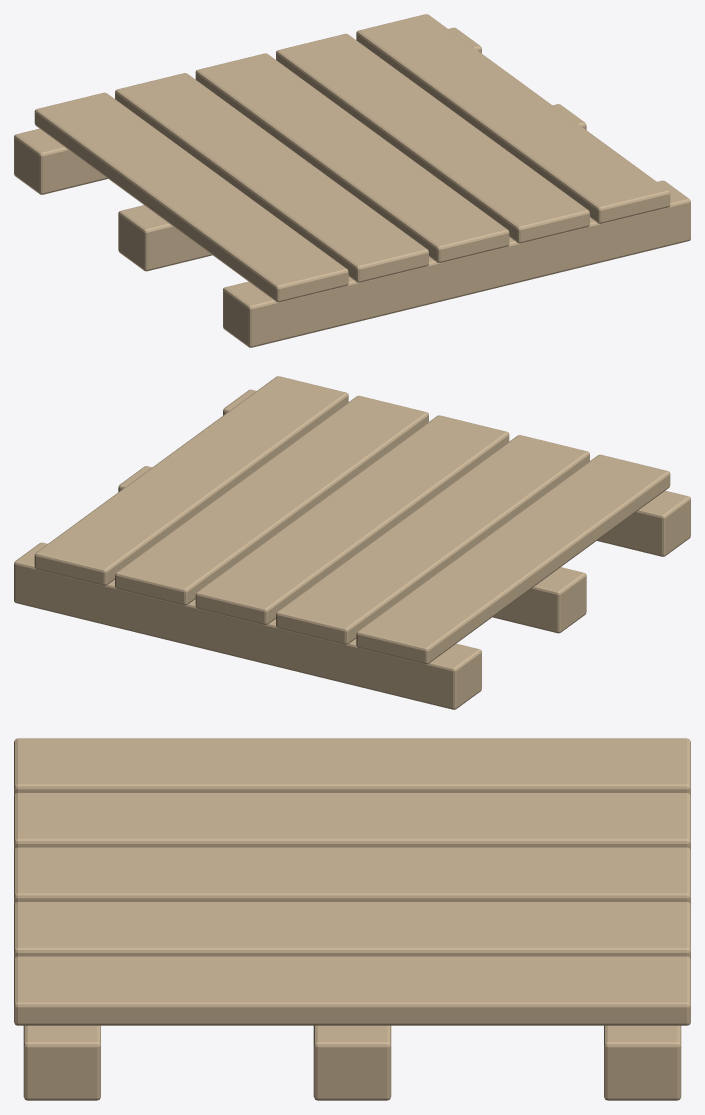
Rendered from pallet.glb.
3 views of the same model, one above another, from view 1: azimuth 30°, elevation 25°; view 2: azimuth 150°, elevation 25°; view 3: azimuth 270°, elevation 25° (orthographic). The views are drawn at different scales.
Parts seen in each view (by area): view 1: runner; view 2: runner; view 3: runner.
Part boxes in pixels (left/top/right/bottom): runner: left=14, top=14, right=690, bottom=347; runner: left=14, top=376, right=690, bottom=709; runner: left=14, top=738, right=690, bottom=1100.
Size of the model in its own units: 1.1 by 0.14 by 1.05.
